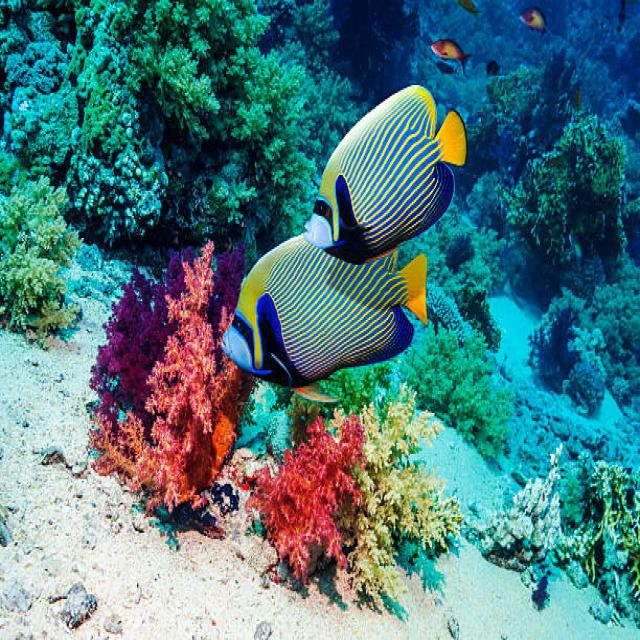AngelFish: (221, 238, 426, 380), (305, 87, 468, 260)
